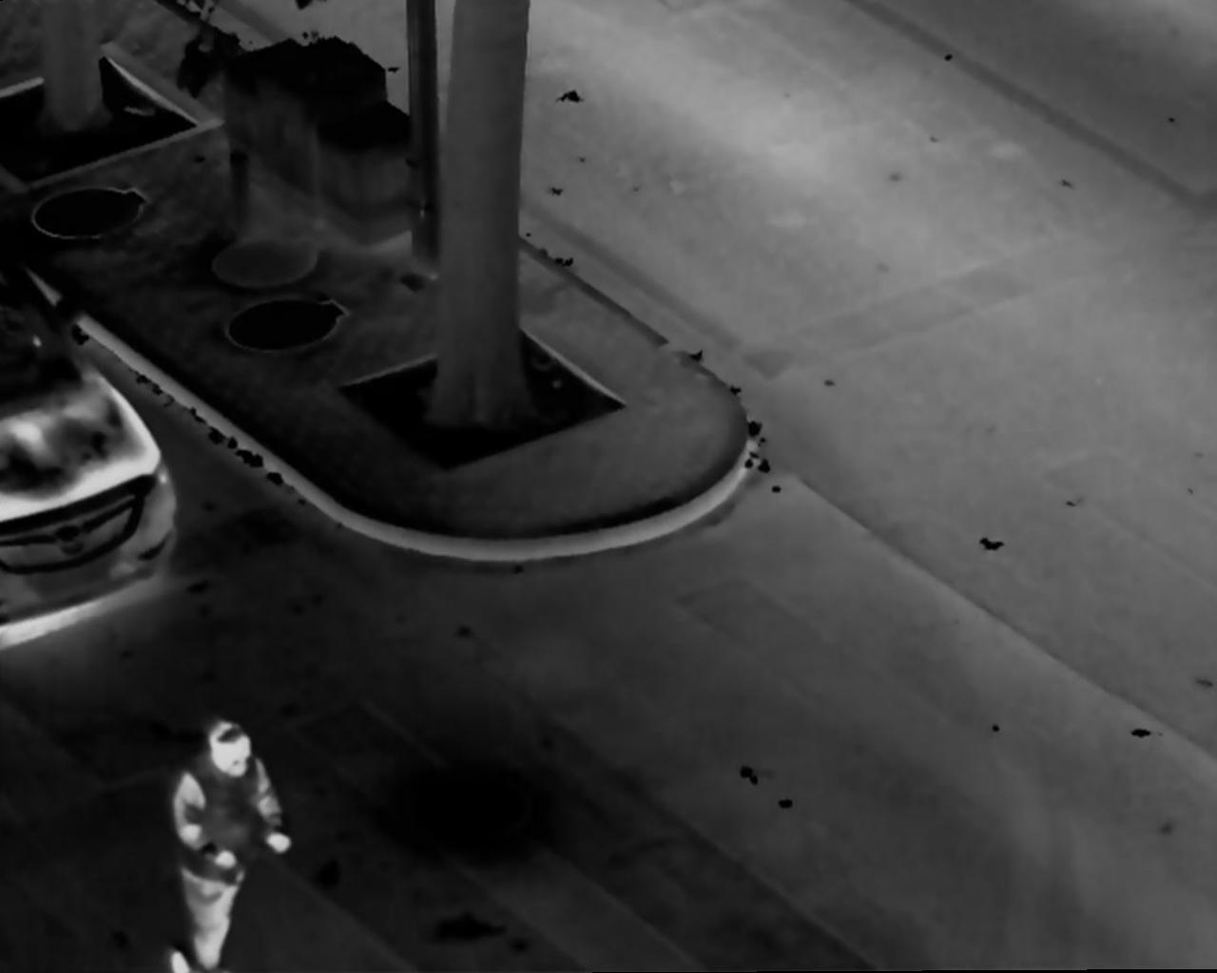person: (159, 710, 303, 973)
